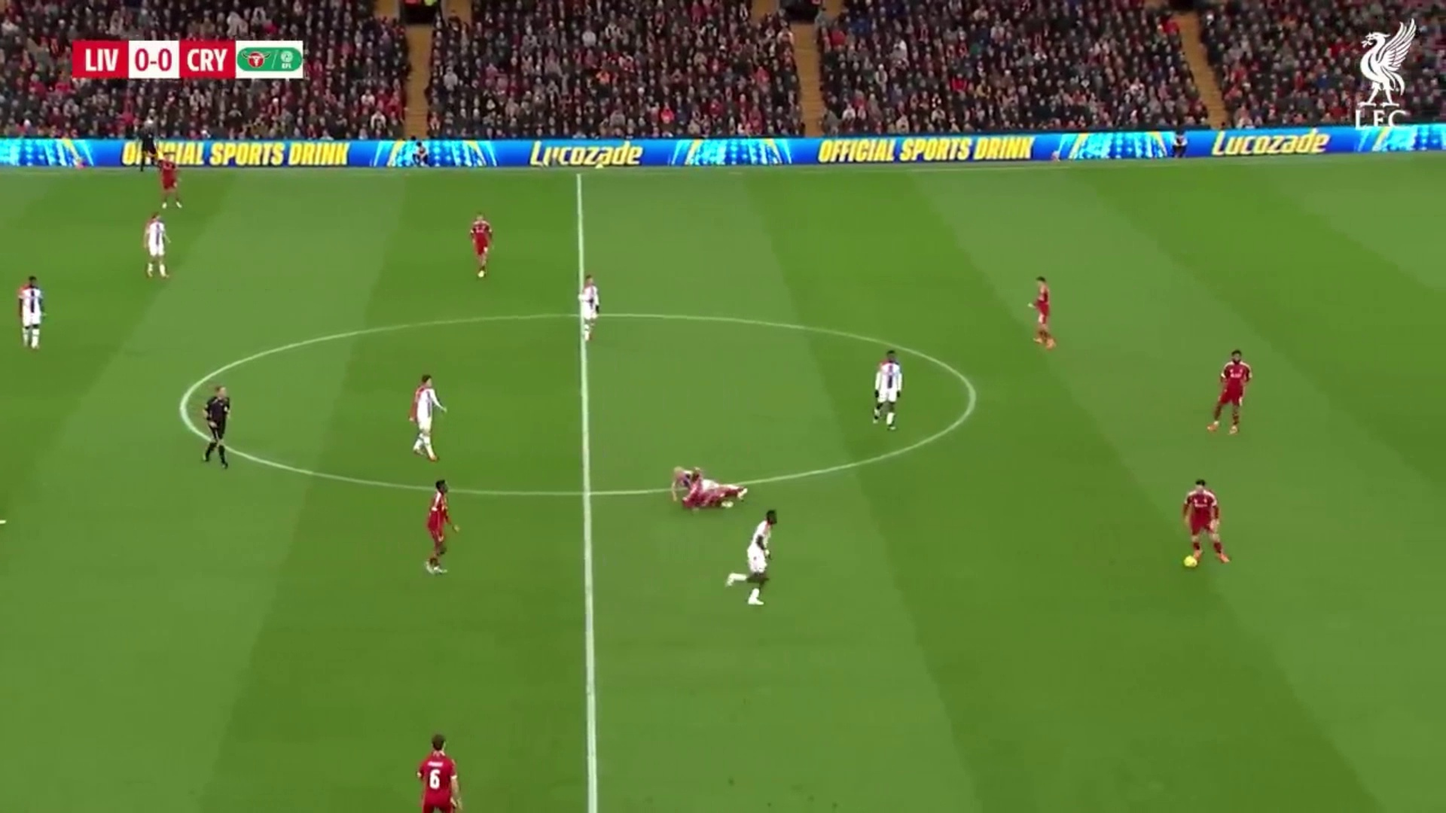player: (1181, 479, 1232, 568), (735, 508, 780, 608), (1206, 349, 1252, 438), (416, 735, 462, 813), (673, 467, 746, 513), (742, 507, 773, 609), (424, 480, 455, 574), (410, 372, 443, 460), (201, 387, 232, 470), (873, 352, 905, 428), (17, 275, 44, 351), (1029, 276, 1056, 350), (143, 212, 170, 280), (468, 212, 493, 281), (580, 275, 601, 345), (158, 157, 184, 212)
